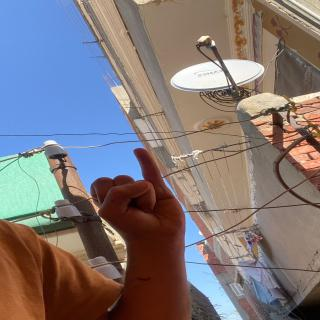MEEM: (76, 146, 236, 243)
